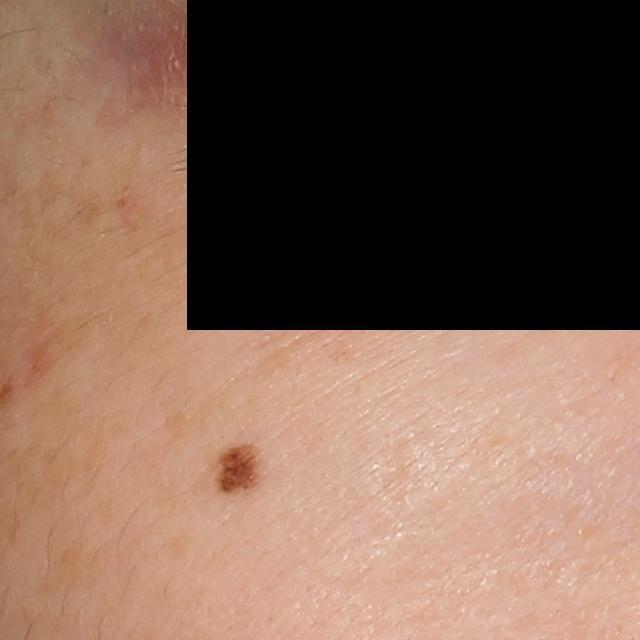nevus: (216, 442, 265, 495)
